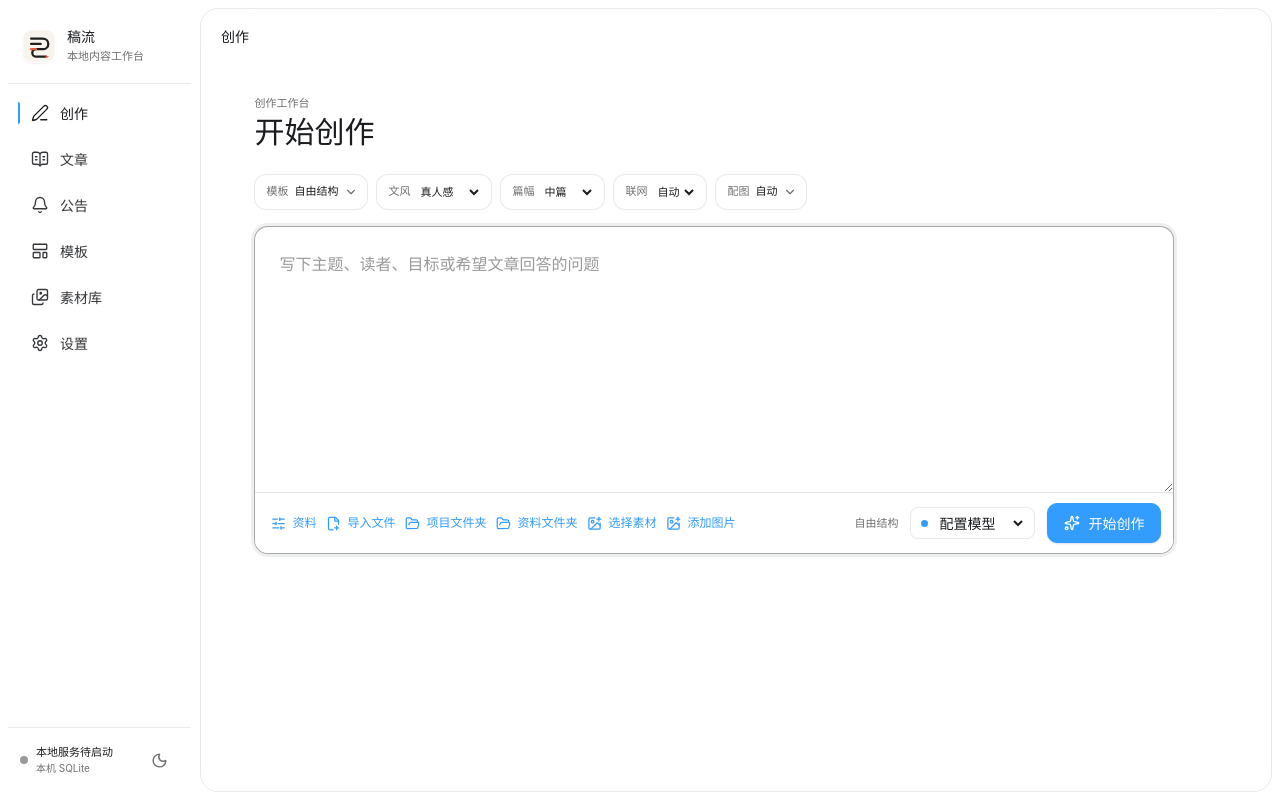
Test: desktop product flow › exposes the focused content-production areas
The width and height of the screenshot is (1280, 800).
Expected: the heading "开始创作" is shown, [254, 114, 374, 150]
Expected: the button "创作" is shown, [18, 92, 181, 134]
Click the button "文章": (100, 159) [18, 138, 181, 180]
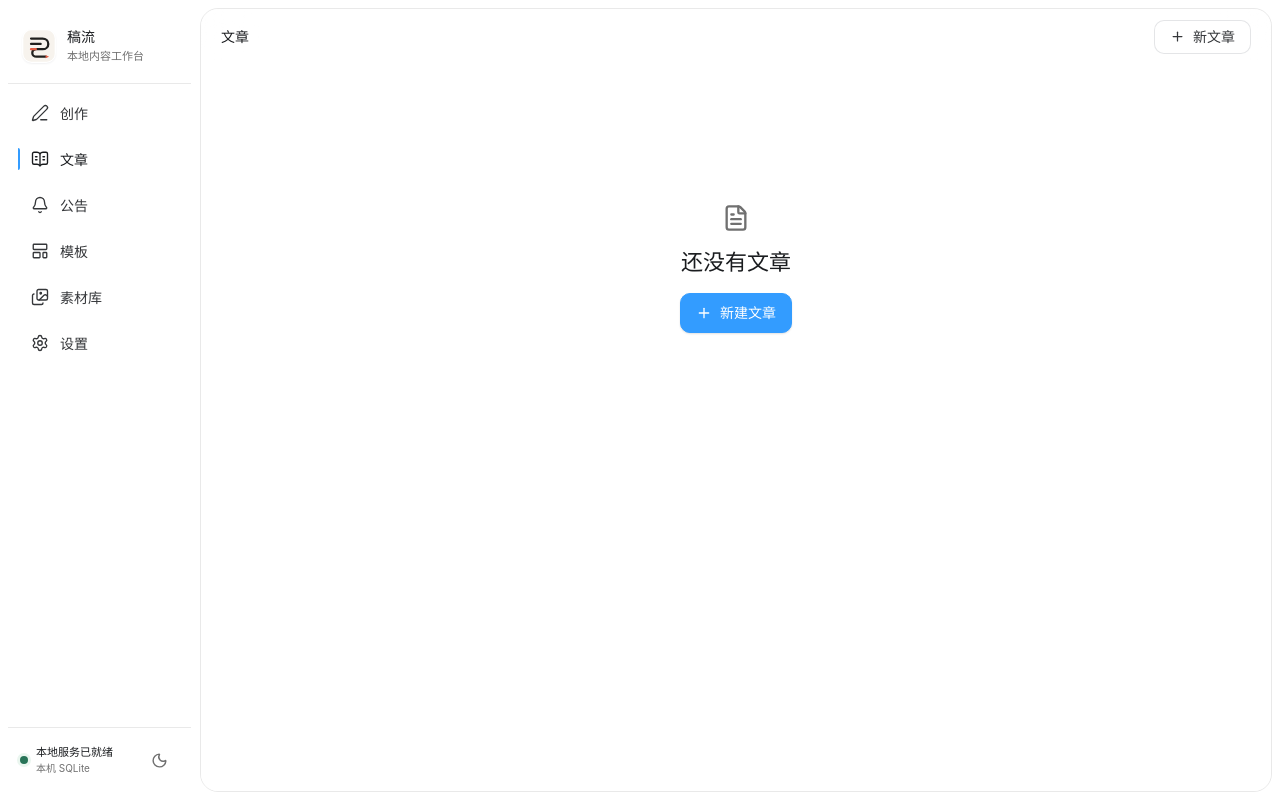
Now the heading "还没有文章" is shown, box [681, 246, 791, 278]
Now the button "新建文章" is shown, box [680, 292, 792, 332]
